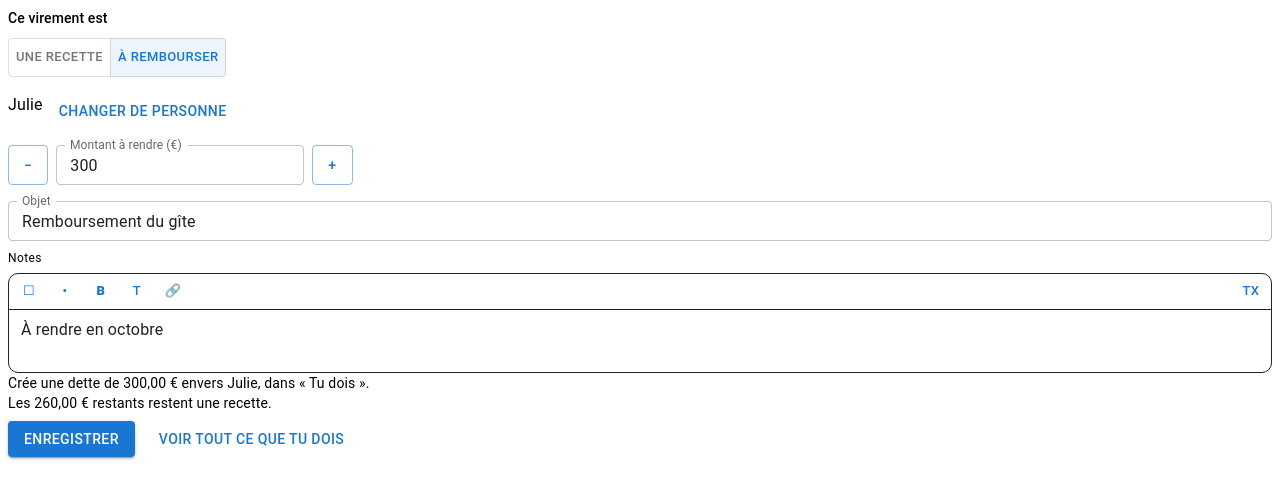
Scenario: TransactionDebtSection › the steppers move the amount by one euro, within one cent and the transfer
Click the button named "Augmenter le montant à rendre": (332, 165) [312,145,352,185]
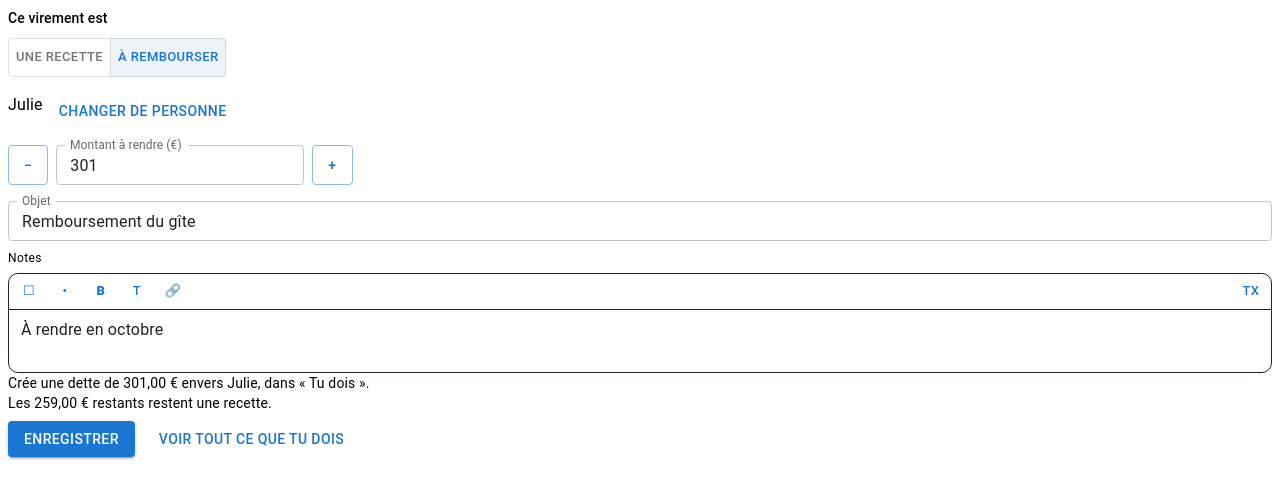
Expected: the field labelled "Montant à rendre (€)" holds "301"
Replace the text in the field labelled "Montant à rendre (€)" with "560": (180, 165) [56,145,304,185]
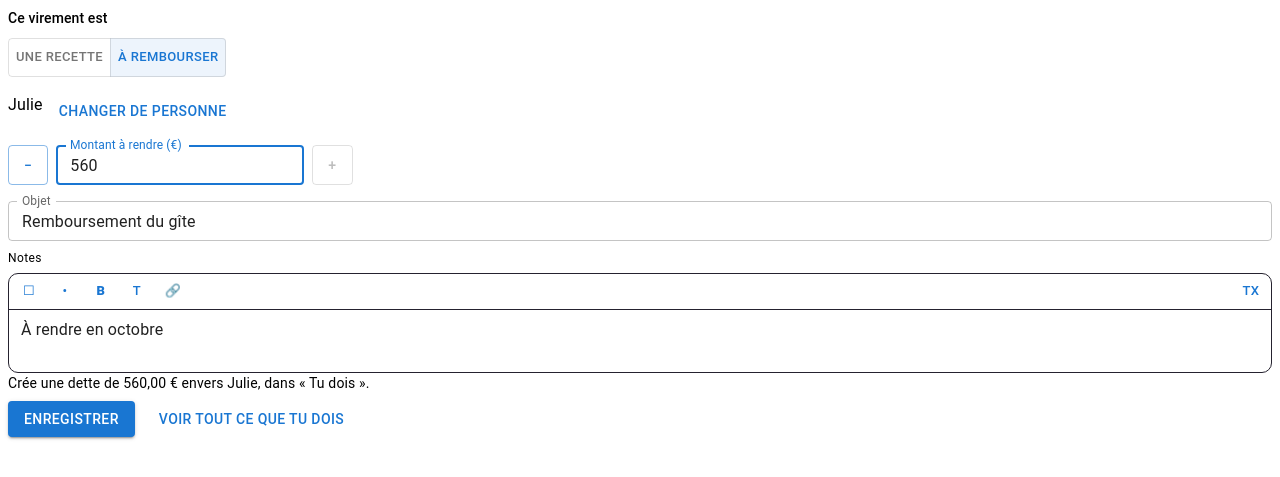
Expected: the button named "Augmenter le montant à rendre" is disabled, [312,145,352,185]
Replace the text in the field labelled "Montant à rendre (€)" with "561": (180, 165) [56,145,304,185]
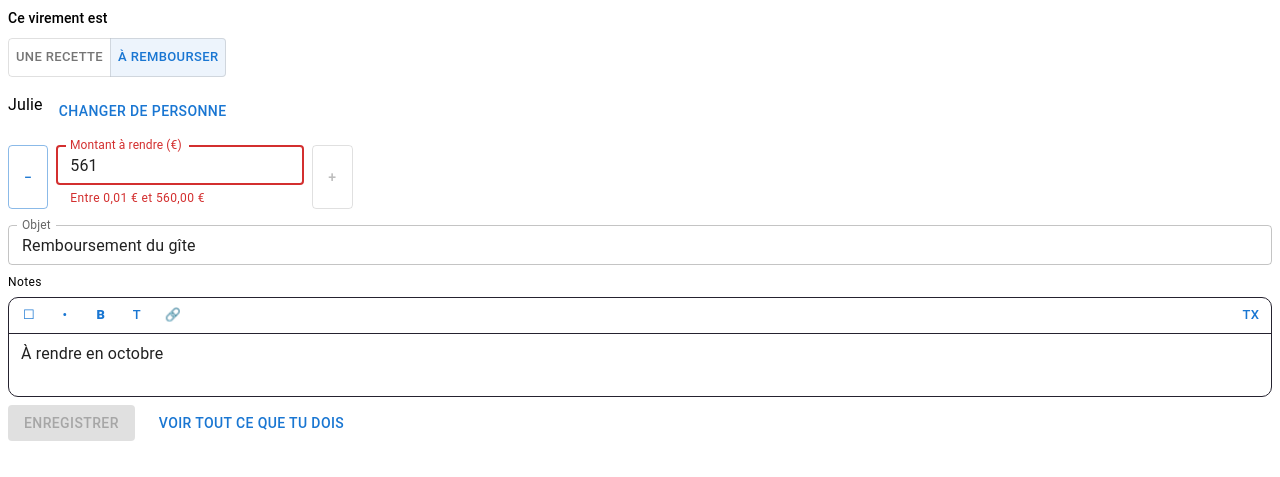
Expected: the button "Enregistrer" is disabled, [8,405,135,441]
Expected: the text "Entre 0,01 € et 560,00 €" is shown, [70,191,205,205]
